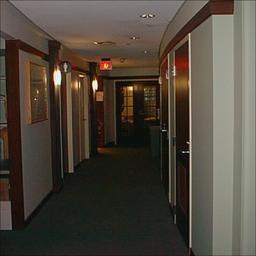Bote de Basura: (150, 126, 159, 158)
Puerta: (174, 51, 190, 240), (121, 87, 156, 142), (159, 65, 171, 199), (78, 75, 85, 164)
